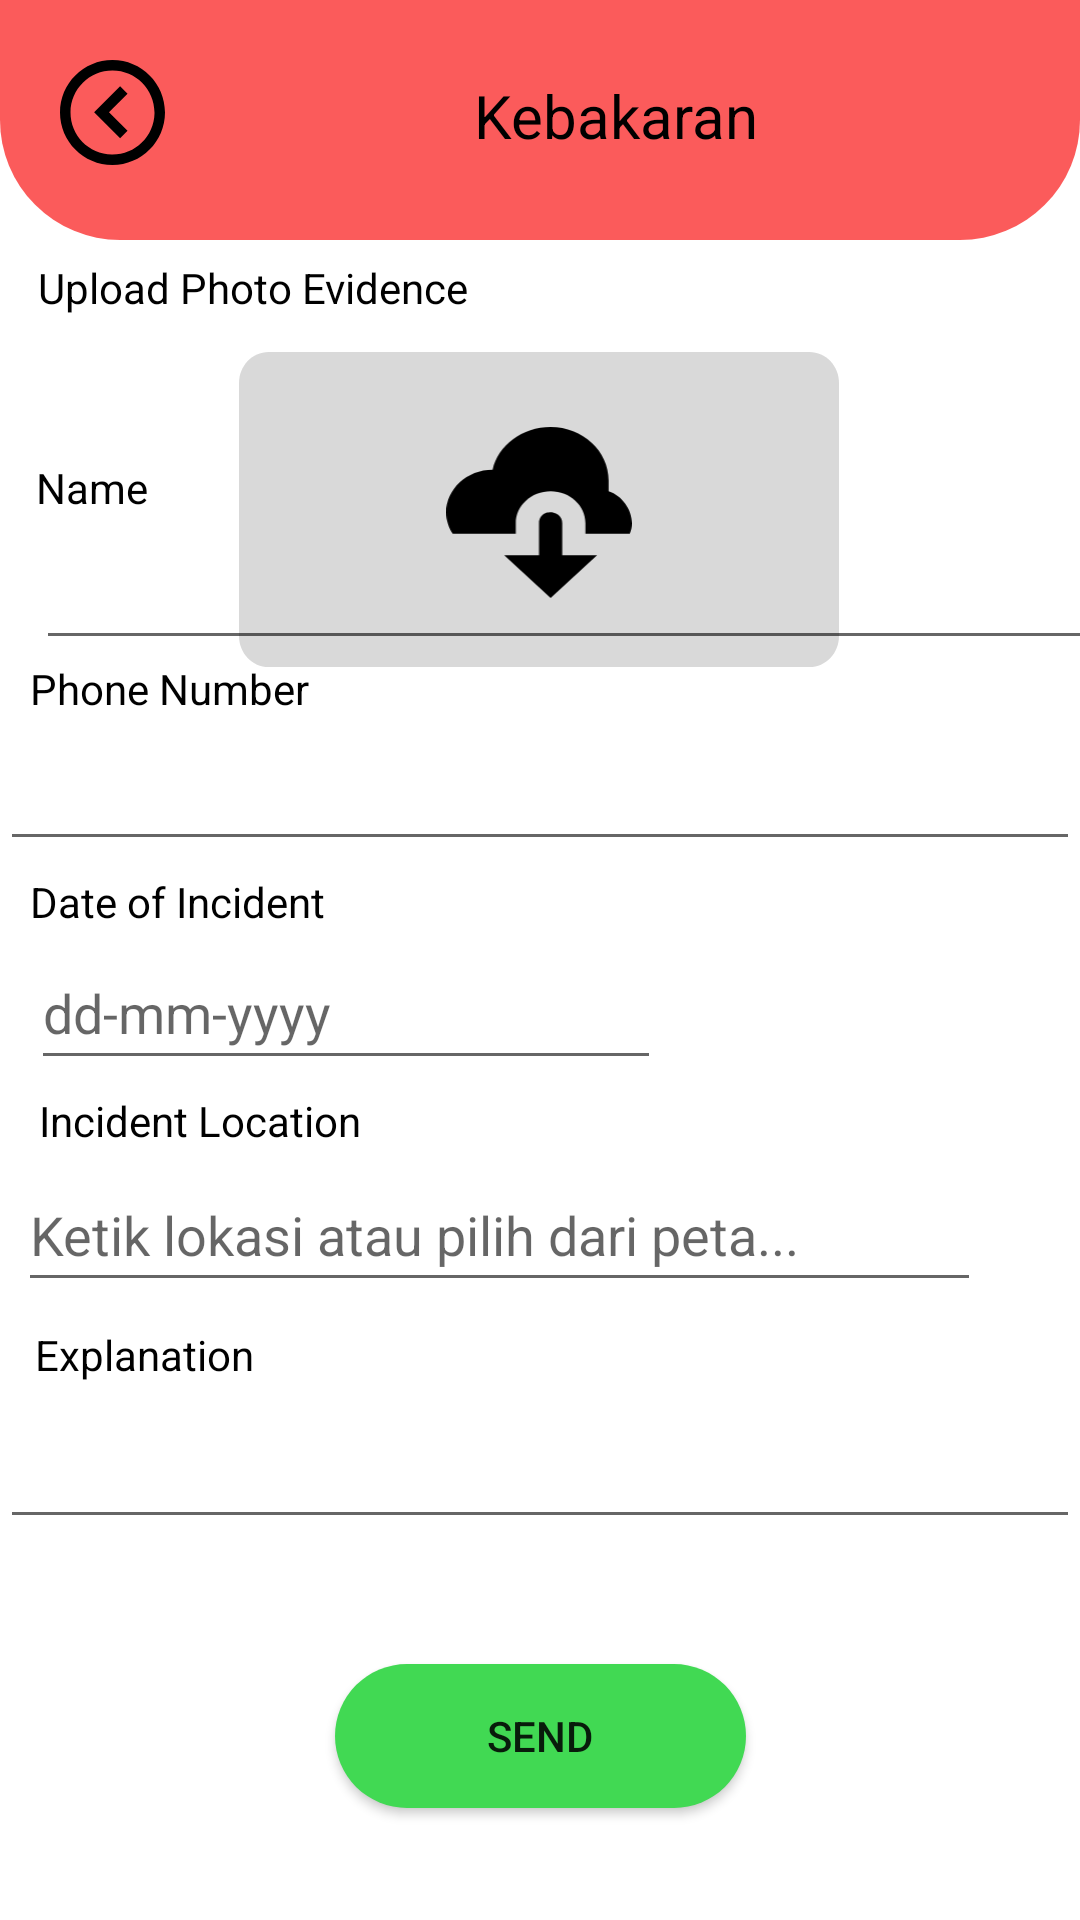

Icons on this 1080 x 1920 Android screen, each with its box as (x1, y1, x2, y2):
cloud download: (446, 427, 632, 598)
